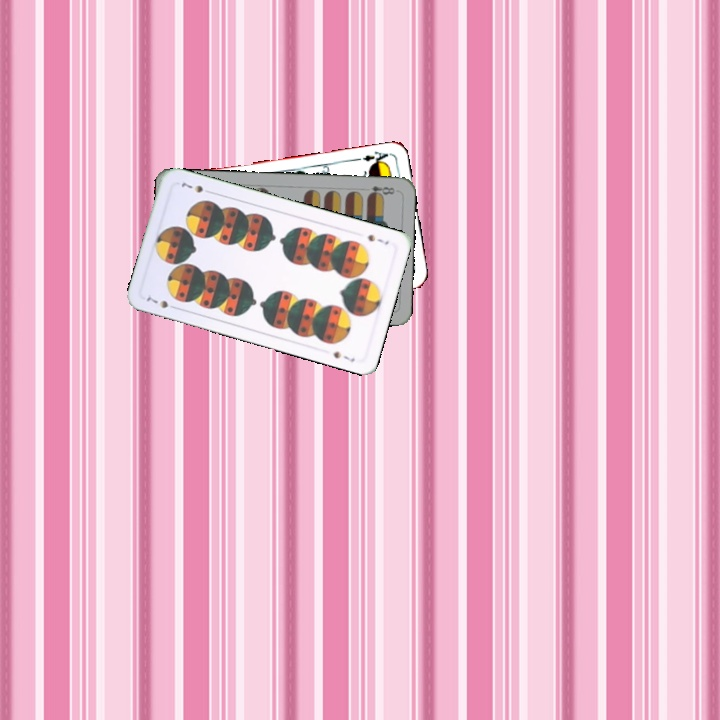E8: (364, 182, 399, 199)
EA: (353, 147, 393, 168)
S7: (142, 293, 180, 312), (364, 230, 391, 247)
